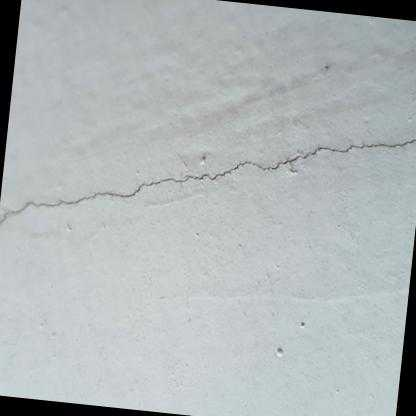crack: (0, 139, 416, 224)
